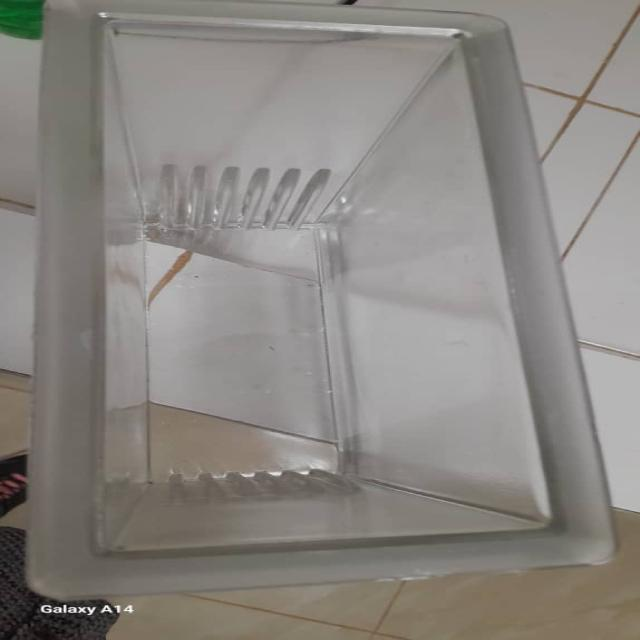TLC Tank: (2, 8, 624, 601)
